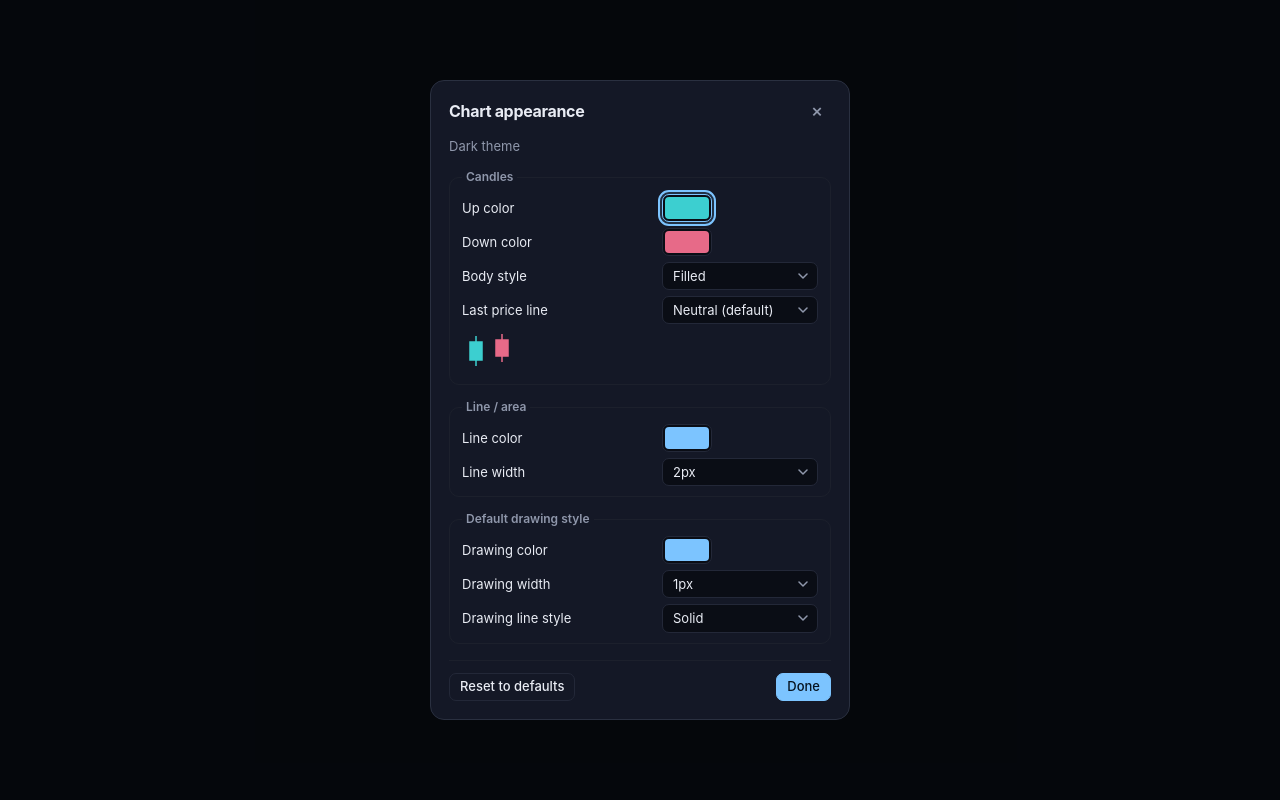
ChartAppearanceDialog › applies each change live (only the changed field is stored) and Reset restores the defaults
Type "#00ff00" into the colour field labelled "Up color". click: [687, 208]
box: [662, 194, 712, 222]
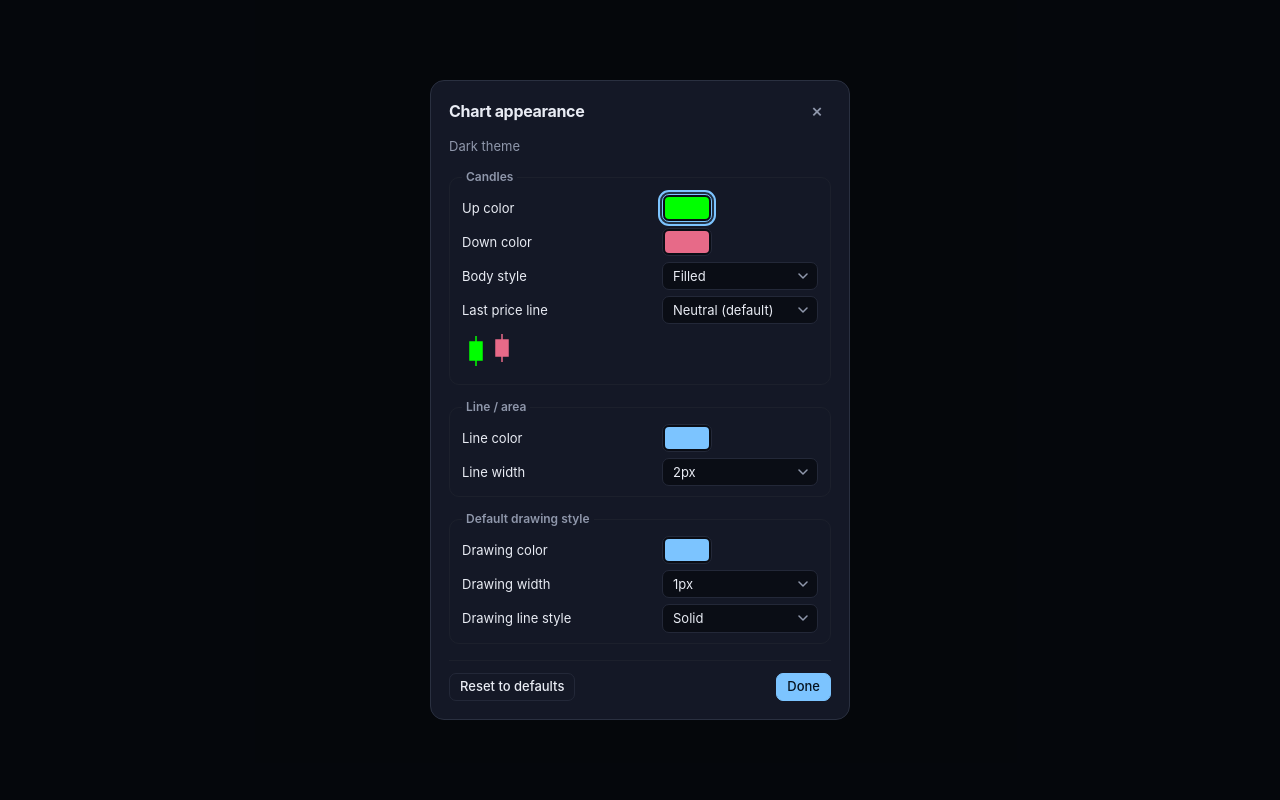
Select "Hollow up" in the dropdown labelled "Body style". click: [740, 276]
box: [662, 262, 818, 290]
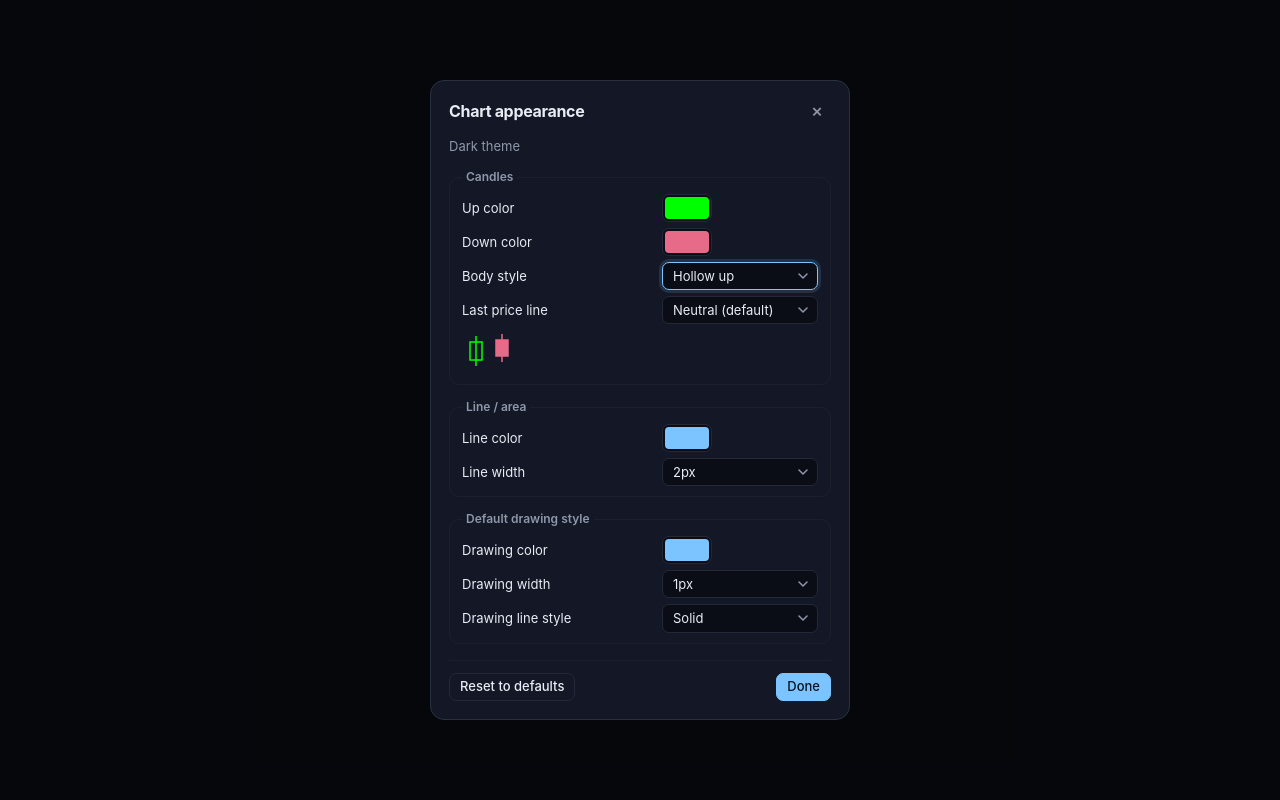
Select "4px" in the dropdown labelled "Line width". click: [740, 472]
box: [662, 458, 818, 486]
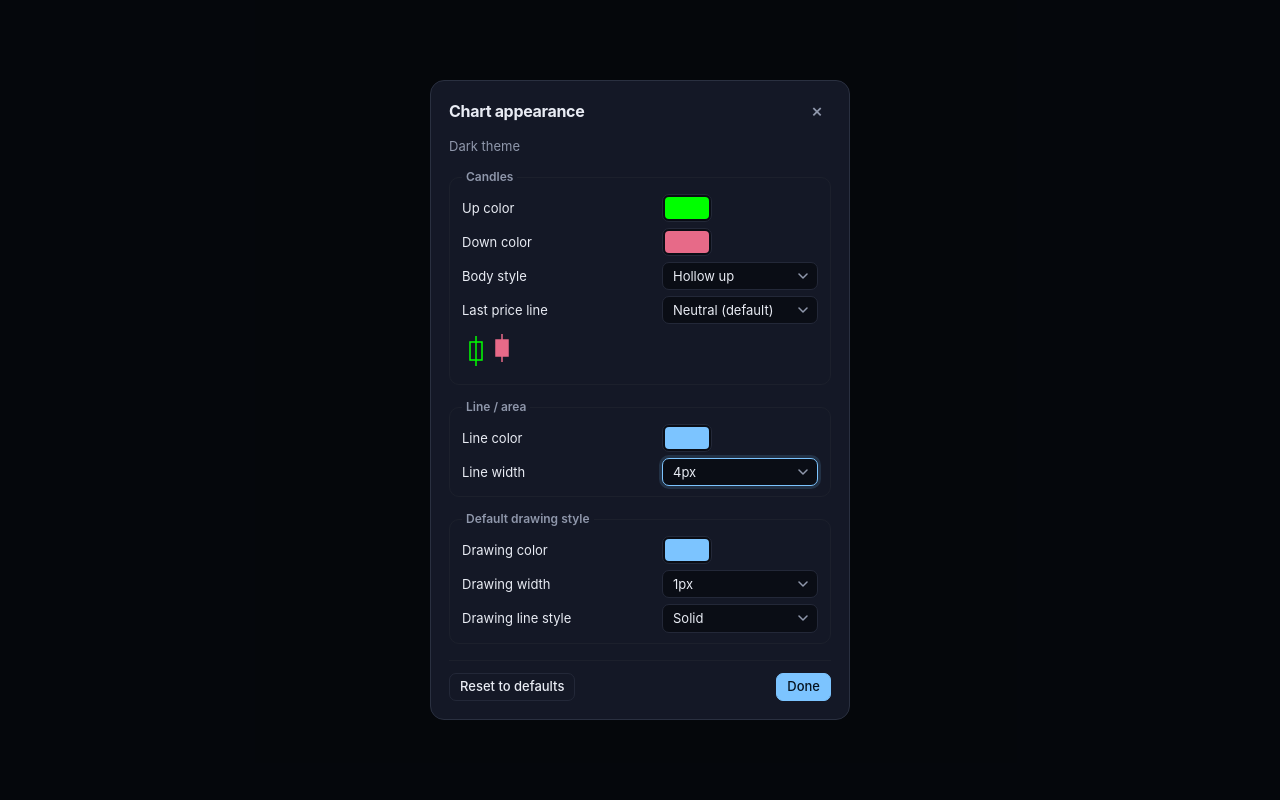
Select "Dashed" in the dropdown labelled "Drawing line style". click: [740, 618]
box: [662, 604, 818, 632]
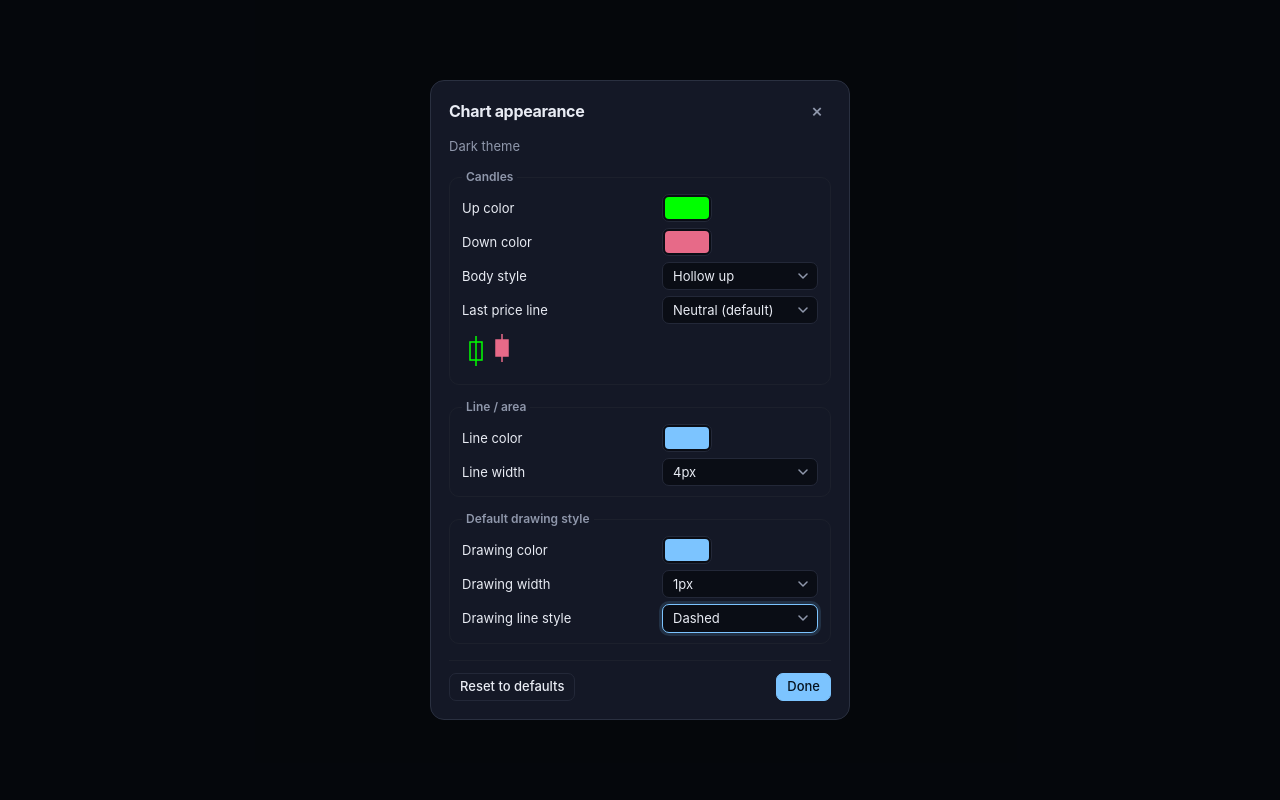
Click the button "Reset to defaults". click: [512, 686]
box: [449, 672, 575, 700]
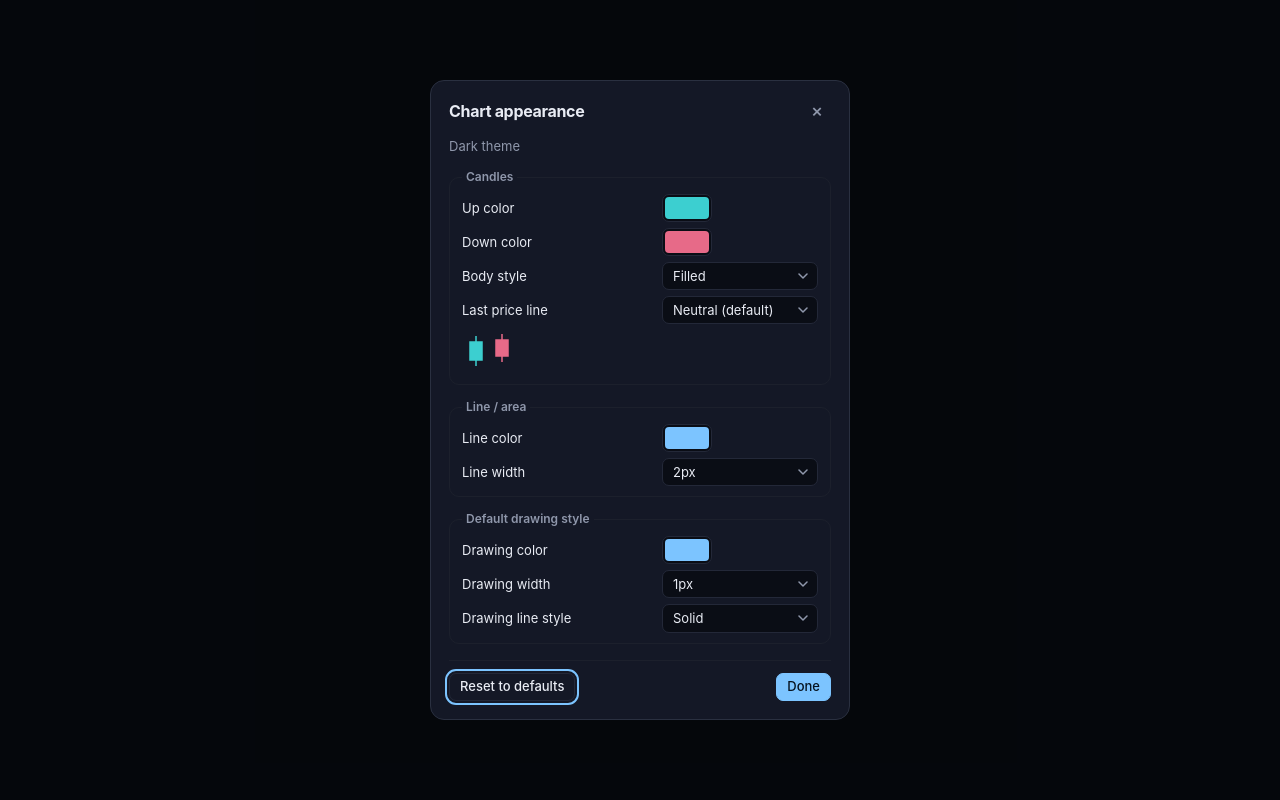
expect the colour field labelled "Up color" holds "#3ccfd0": met, box [662, 194, 712, 222]
